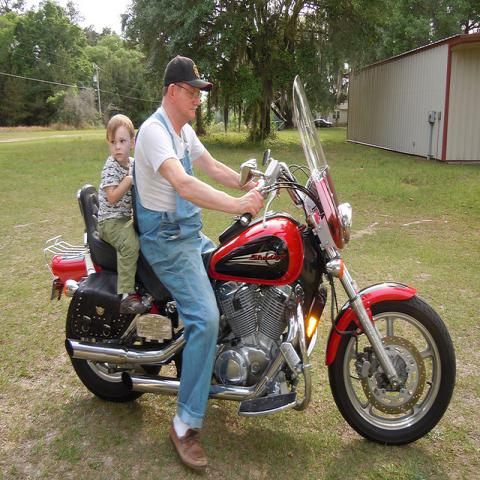motorcycle: (41, 77, 459, 450)
